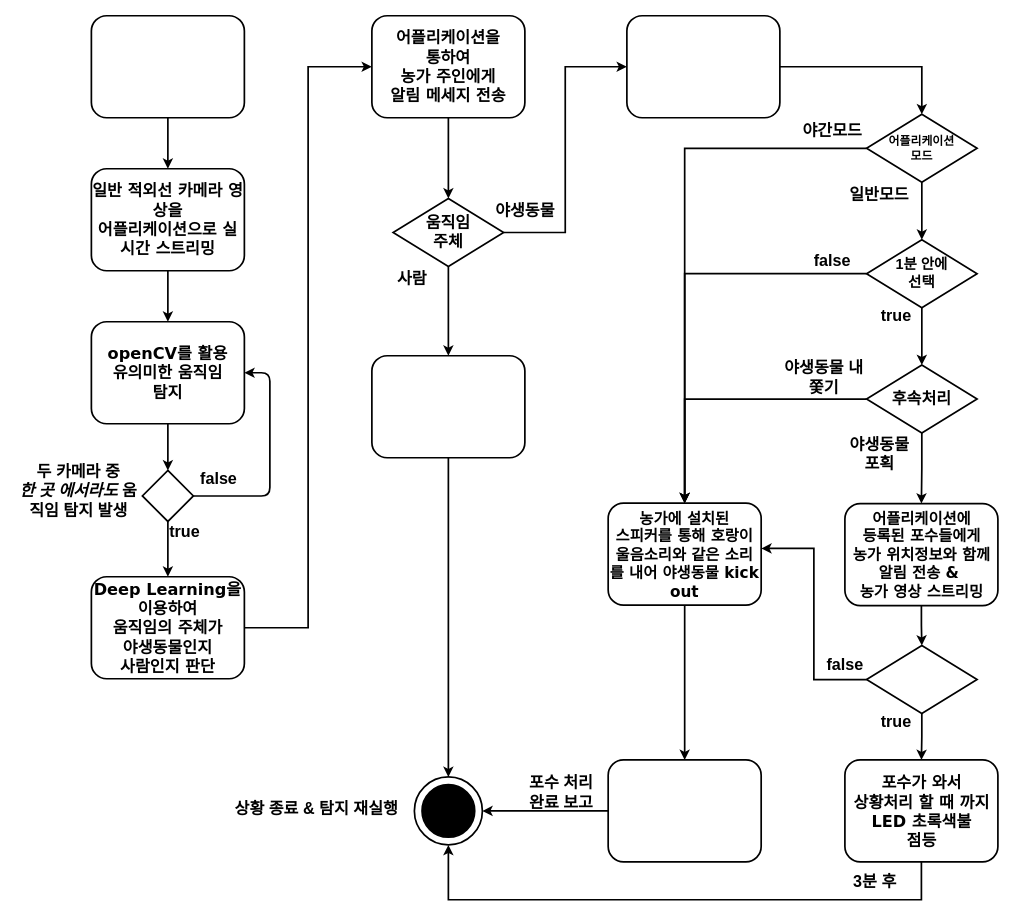
The diagram is 1013 pixels wide and 921 high, and some of its shapes have lost their labels. The centre of each missing label's shape, as x and y in pixels:
"1분 안에 포수 승락" belongs at pixel 921 679.
"농가주인이 어플리케이션을 통해 후속 처리 선택" belongs at pixel 703 66.
"야생동물이 도망갈때 까지 LED 빨간색불 점등" belongs at pixel 684 810.
"열화상 카메라 적외선 카메라 독립적으로 동시에 탐지 시작" belongs at pixel 167 66.
"일반 적외선 카메라 3분간 자동 녹화" belongs at pixel 448 406.
